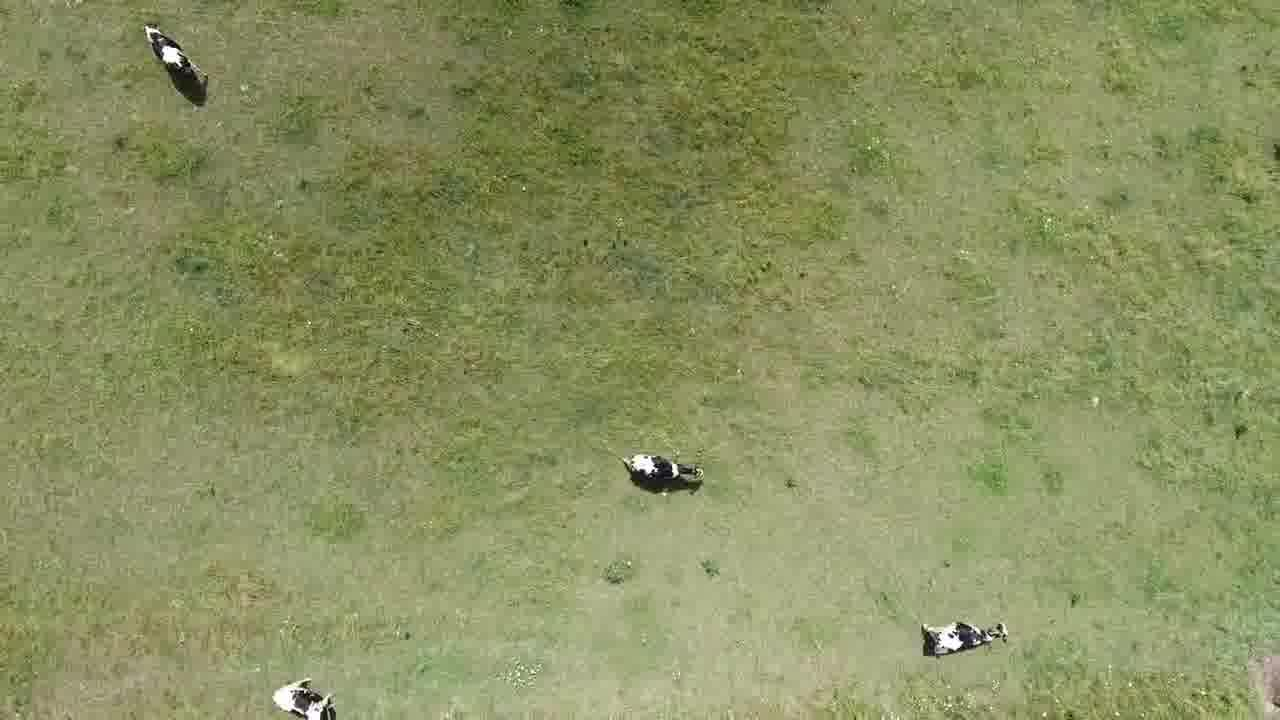cow: (916, 609, 1013, 662), (142, 19, 211, 87), (617, 447, 709, 496), (269, 672, 339, 719)
